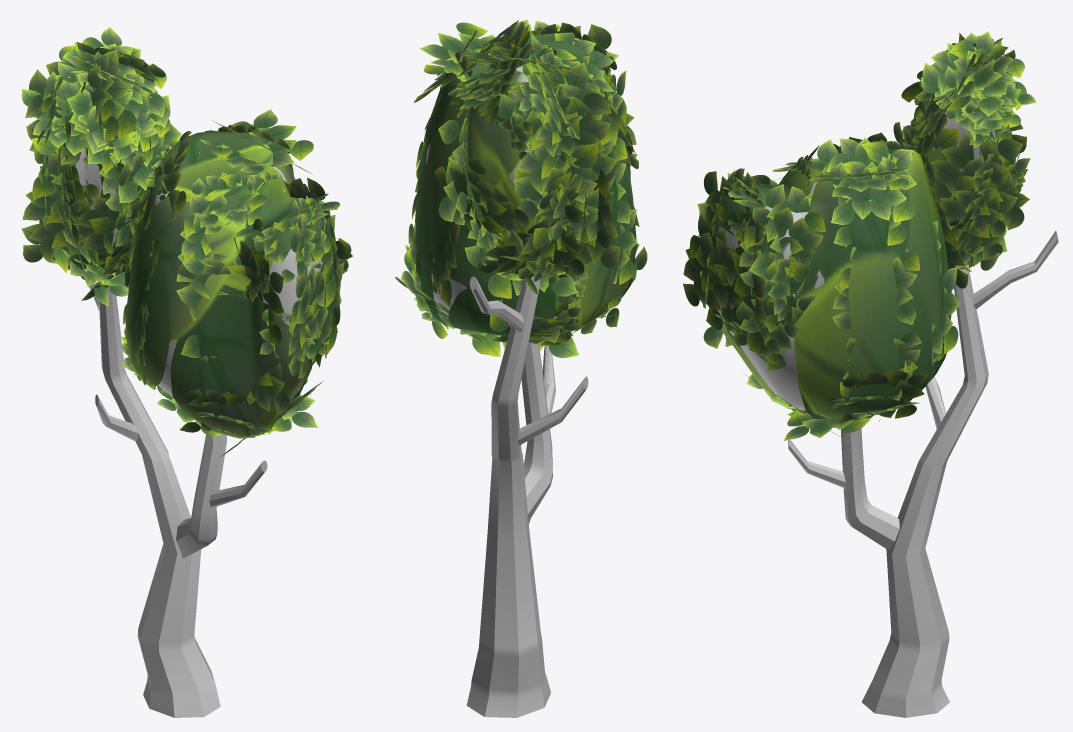
The model's file is Mesh_Miranda_Tree4.fbx.
3 renders of one model, left to right at view 1: azimuth 30°, elevation 25°; view 2: azimuth 150°, elevation 25°; view 3: azimuth 270°, elevation 25°, orthographic. The views are drawn at different scales.
Visible parts, largest first — view 1: Object028; view 2: Object028; view 3: Object028.
Part boxes in pixels (left/top/right/bottom): Object028: left=21, top=27, right=352, bottom=717; Object028: left=395, top=19, right=647, bottom=717; Object028: left=683, top=31, right=1058, bottom=717.
Size of the model in its own units: 4.7 by 11.75 by 6.14.
